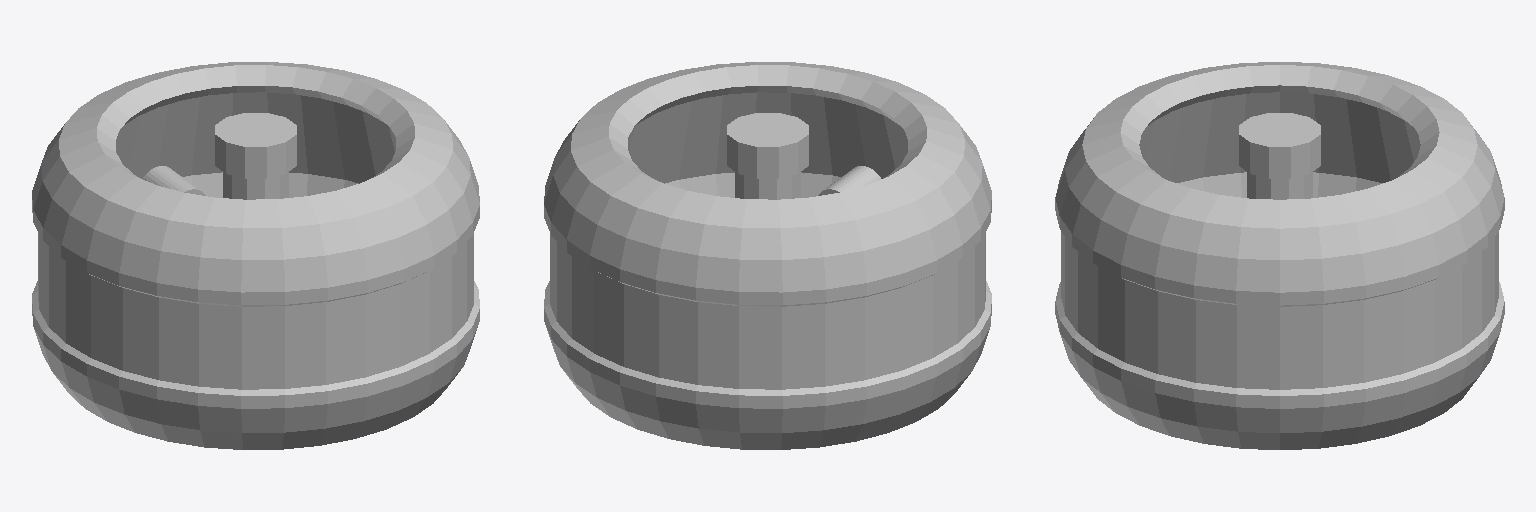
Rendered from station_habitat.obj.
3 views of the same model, side by side, from view 1: azimuth 30°, elevation 25°; view 2: azimuth 150°, elevation 25°; view 3: azimuth 270°, elevation 25° (orthographic).
Visible parts, largest first — view 1: Cylinder; view 2: Cylinder; view 3: Cylinder.
Part boxes in pixels (x1,y1,x2,y2): Cylinder: (32,62,479,449); Cylinder: (544,62,991,449); Cylinder: (1055,62,1504,449).
Size of the model in its own units: 3.29 by 2.04 by 3.29.